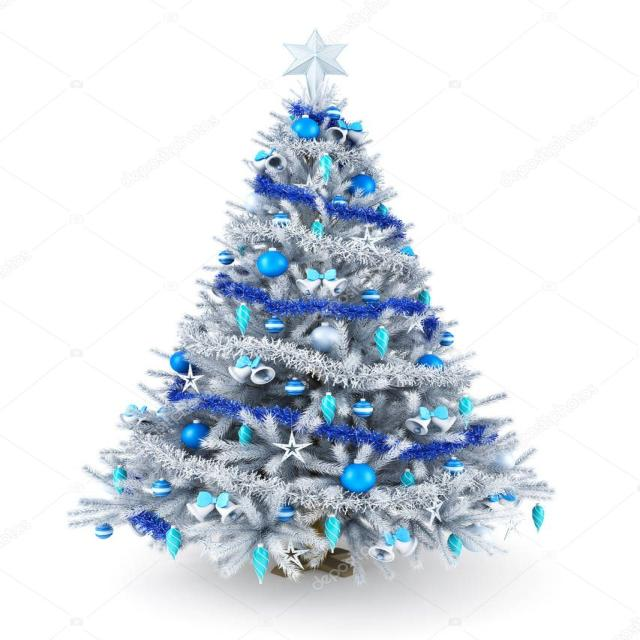Christmas-tree: (15, 24, 580, 588)
